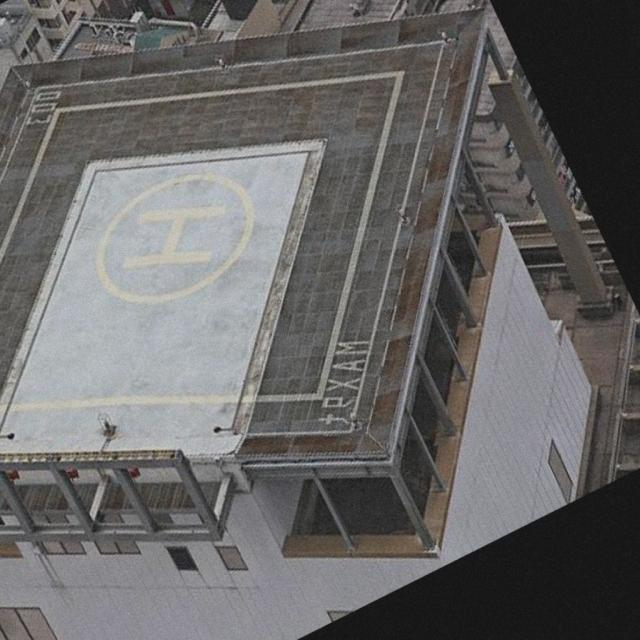helipad: (90, 168, 258, 310)
